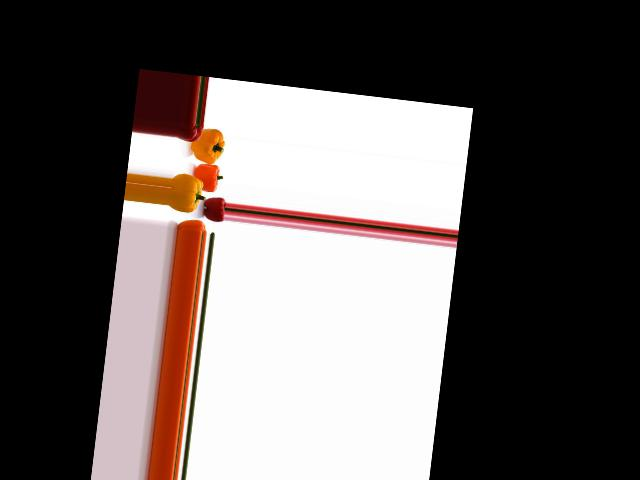bell_pepper: (176, 216, 209, 234)
